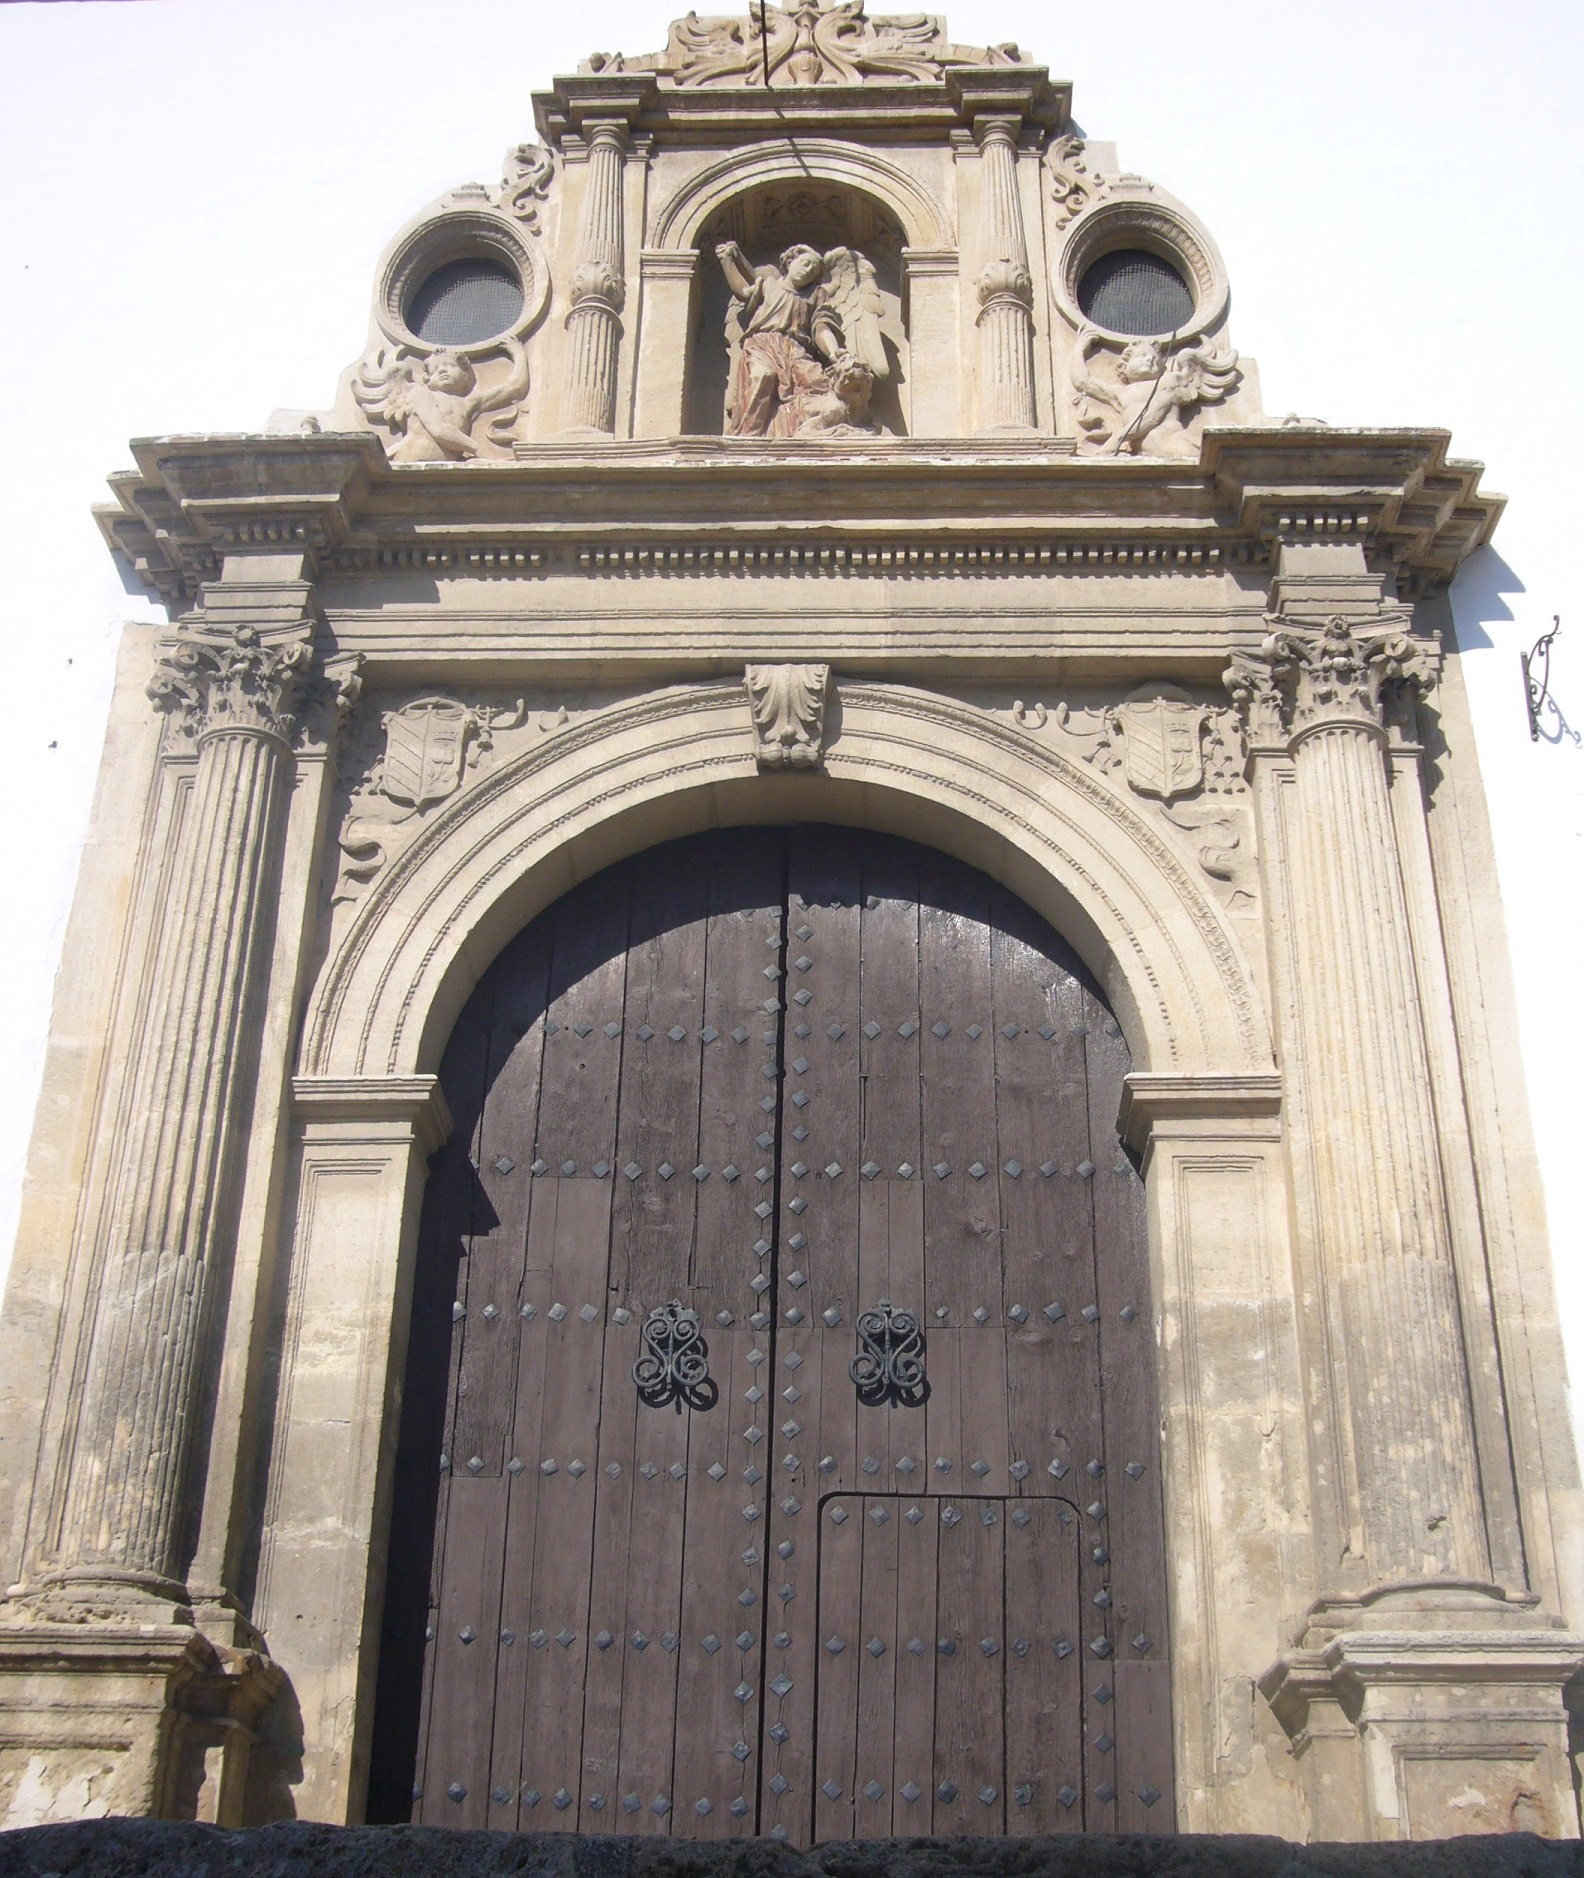arco-medio-punto: (372, 746, 1193, 1190), (685, 163, 924, 284)
ojo-de-buey: (1051, 182, 1230, 357), (376, 196, 550, 368)
